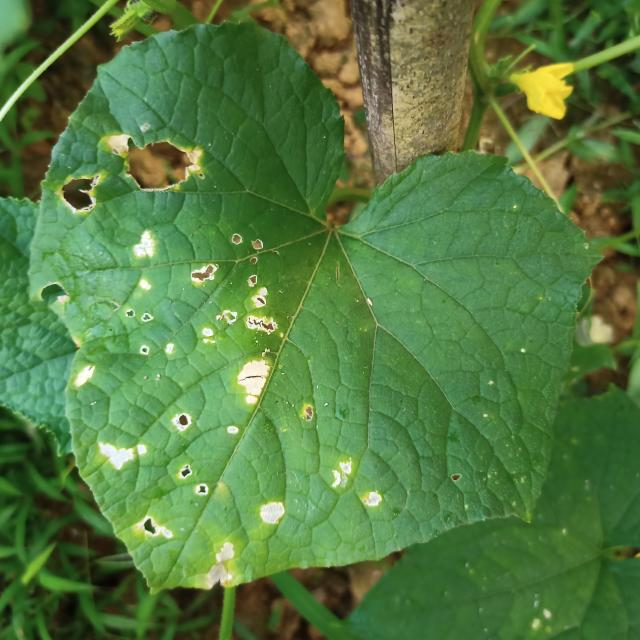disease_cucumber: (189, 232, 278, 344), (100, 126, 214, 197), (331, 458, 384, 511), (52, 172, 108, 222), (231, 357, 277, 408), (93, 440, 151, 472), (204, 542, 236, 588), (175, 463, 212, 498), (138, 514, 176, 543), (131, 226, 158, 262), (260, 500, 286, 528), (74, 366, 99, 392), (171, 411, 193, 434)
